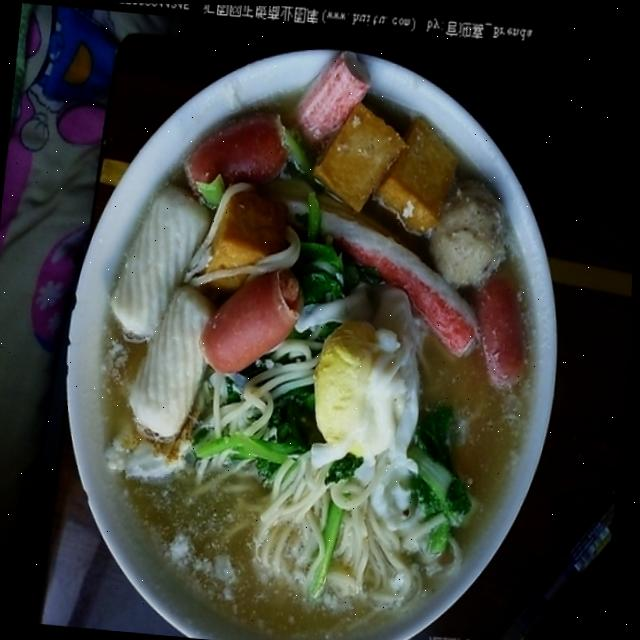面条主食: (37, 40, 585, 640)
